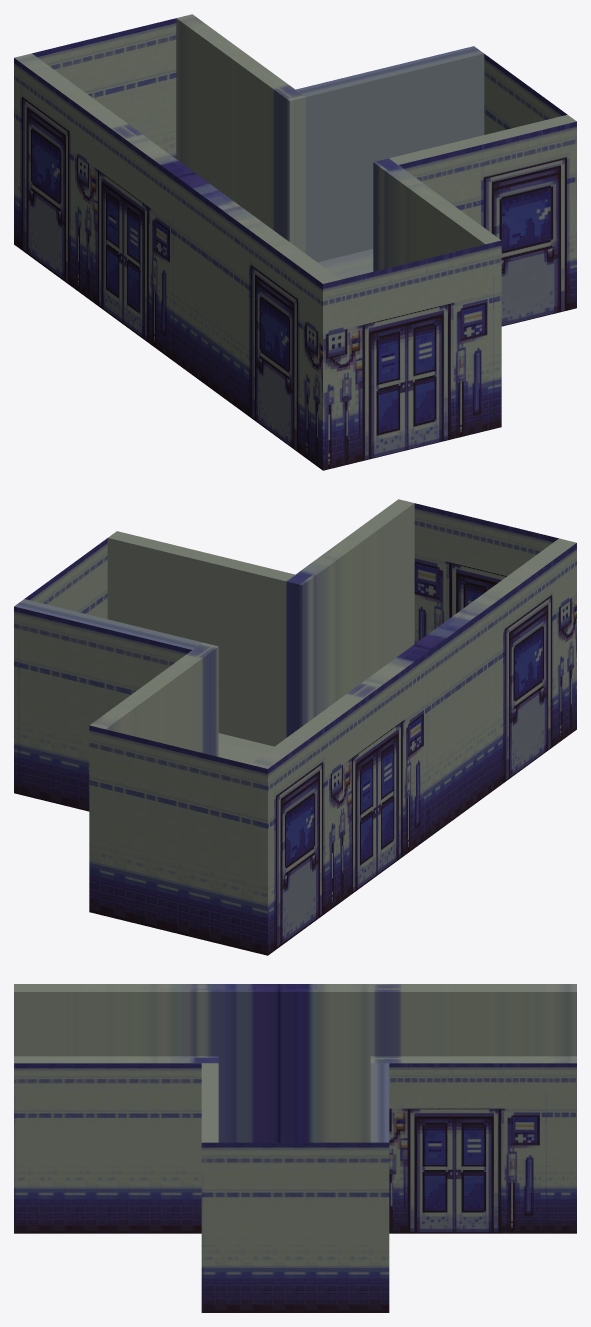
The model's file is Epiece.fbx.
3 renders of one model, top to bottom at view 1: azimuth 30°, elevation 25°; view 2: azimuth 150°, elevation 25°; view 3: azimuth 270°, elevation 25°, orthographic. The views are drawn at different scales.
Parts seen in each view (by area): view 1: EPiece; view 2: EPiece; view 3: EPiece.
Part boxes in pixels (x1,y1,x2,y2): EPiece: (14, 14, 576, 470); EPiece: (14, 499, 576, 955); EPiece: (14, 984, 576, 1312).
Bounding box in the file's own units: 400 × 200 × 600.
